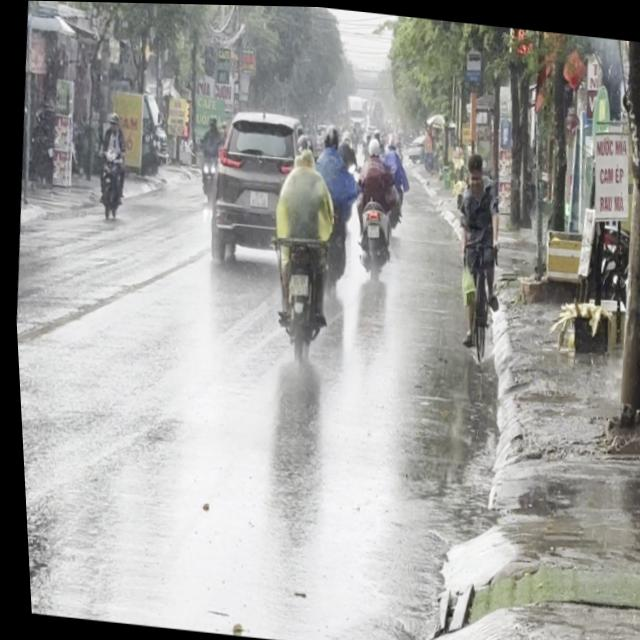helmet: (288, 127, 312, 162)
licenseplate: (252, 122, 345, 359)
nohelmet: (283, 270, 304, 293)
